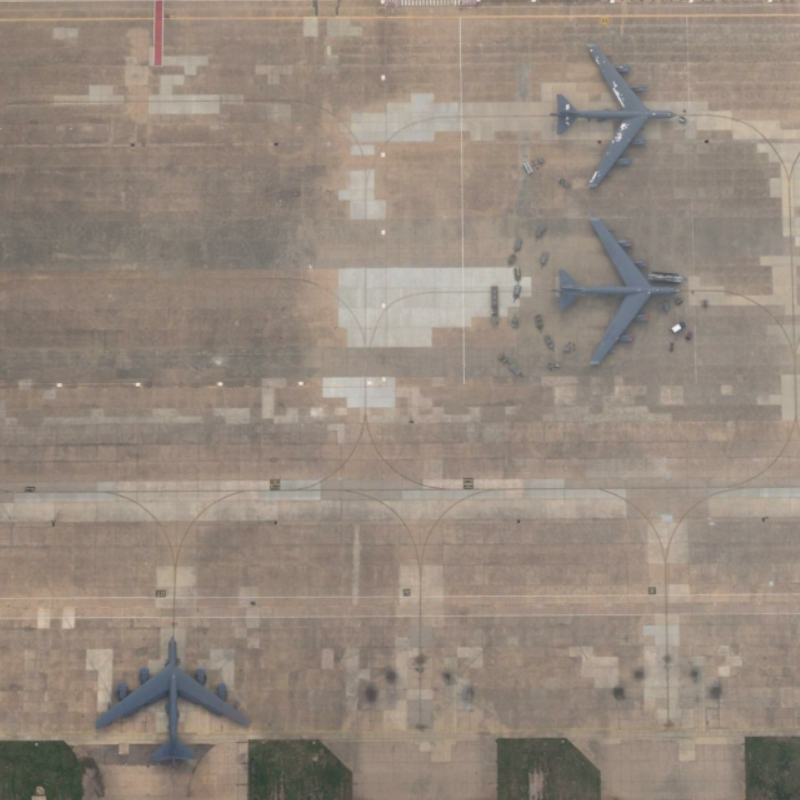A8: (546, 206, 688, 377), (88, 628, 256, 772), (547, 37, 685, 198)
